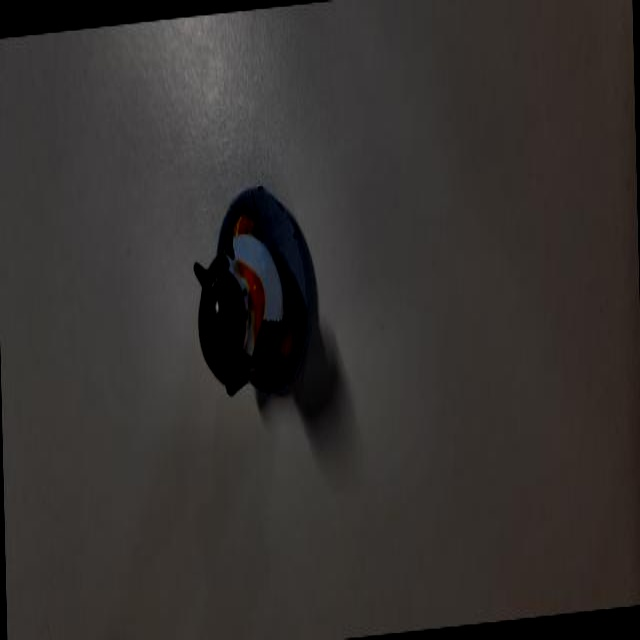Penguin: (185, 150, 325, 425)
